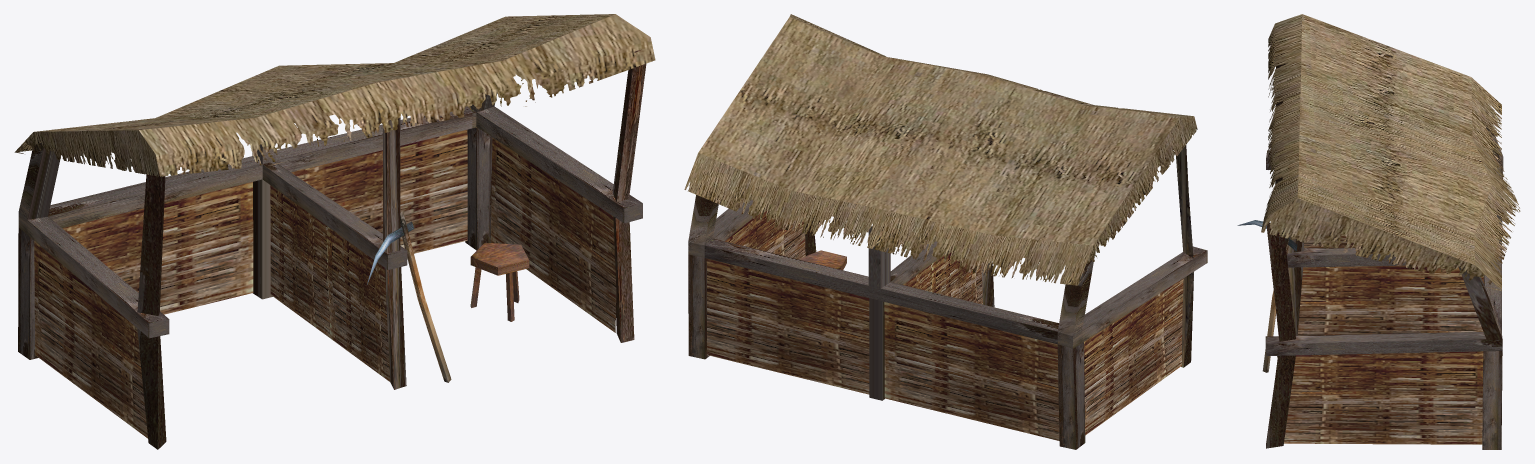
The model's file is building_farm_wheat.glb.
3 renders of one model, left to right at view 1: azimuth 30°, elevation 25°; view 2: azimuth 150°, elevation 25°; view 3: azimuth 270°, elevation 25°, orthographic. The views are drawn at different scales.
Visible parts, largest first — view 1: building_farm_wheat; view 2: building_farm_wheat; view 3: building_farm_wheat.
Part boxes in pixels (x1,y1,x2,y2): building_farm_wheat: (14,14,655,449); building_farm_wheat: (684,14,1207,449); building_farm_wheat: (1237,14,1520,449).
Size of the model in its own units: 4.15 by 2.48 by 2.53.
Materials: 7 (7 with a texture image).
